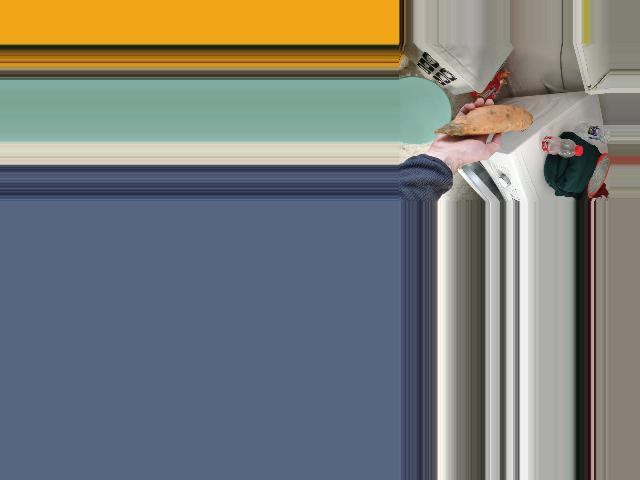sweet_potato: (424, 101, 529, 129)
